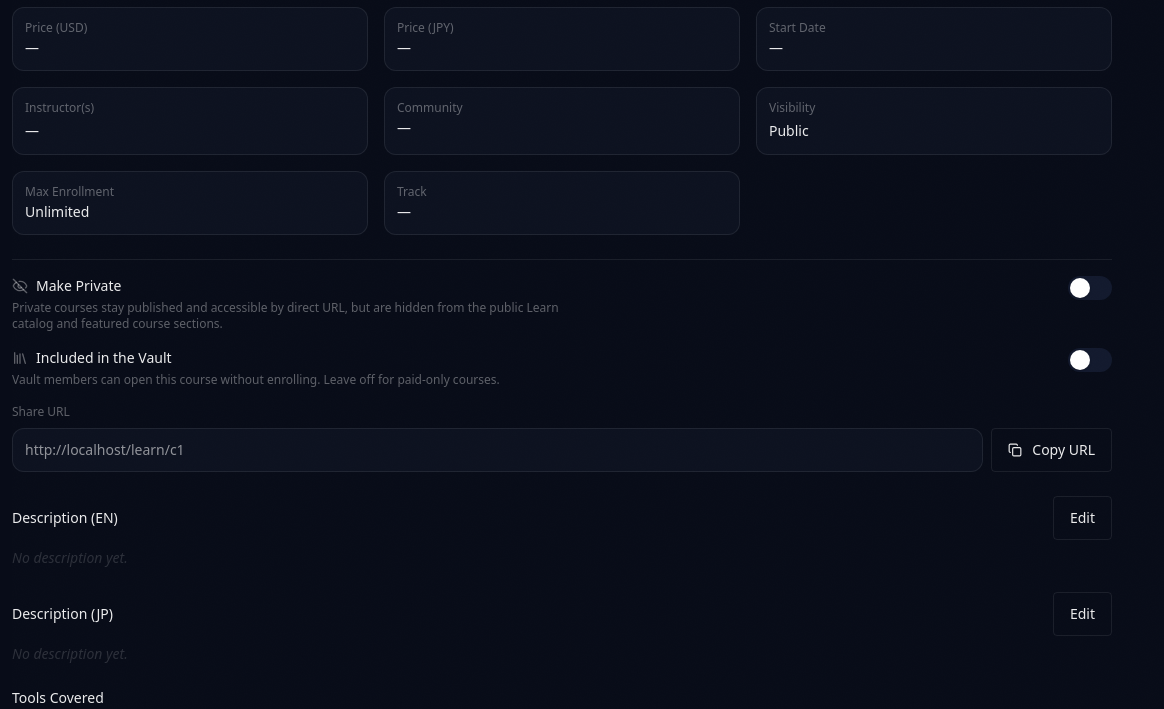
Test case: AdminCourseDetail — Included in the Vault toggle (B3 D3.4) › shows the error when the save is refused
(page scrolled)
Click the button named "Toggle whether this course is included in the Vault". click: (1090, 360)
box: x1=1068 y1=348 x2=1112 y2=372
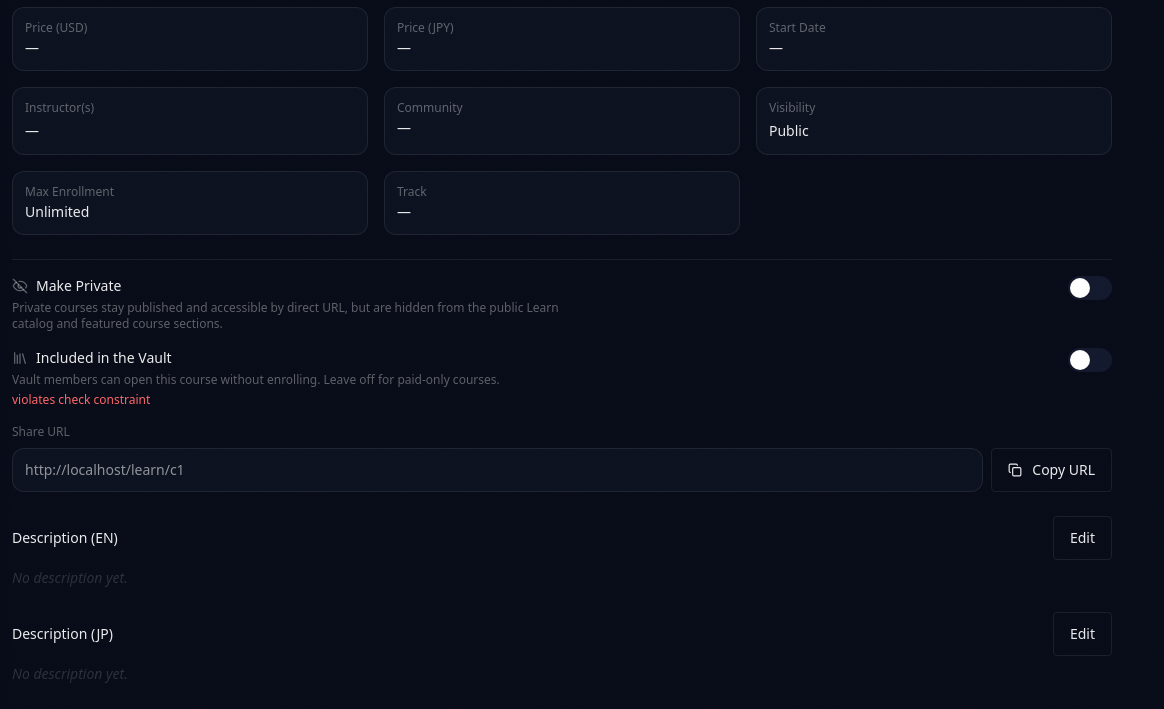
Check: the message reads "violates check constraint", box x1=12 y1=391 x2=150 y2=408
